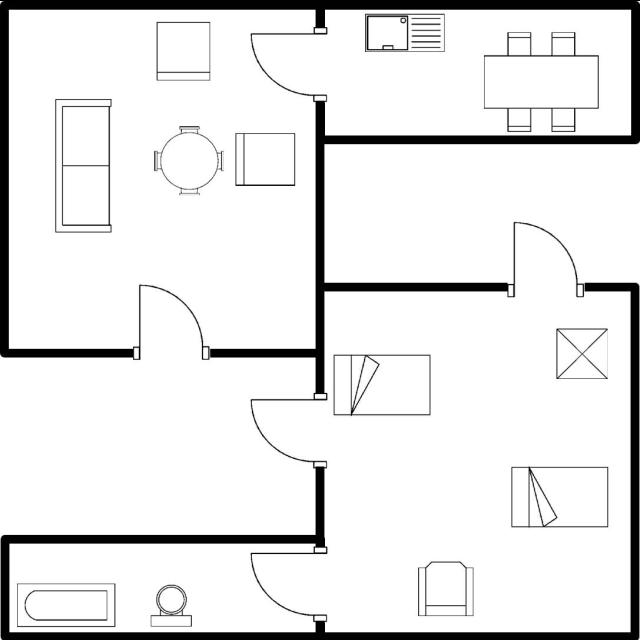bed: (329, 349, 437, 421), (505, 462, 614, 532)
coffee_table: (549, 322, 615, 383)
dining_table: (478, 26, 604, 136)
large_sink: (412, 556, 478, 622), (143, 580, 200, 628)
large_sofa: (49, 94, 118, 238)
round_table: (149, 120, 228, 202)
sink: (361, 9, 449, 55)
small_sofa: (231, 126, 301, 191), (153, 19, 215, 87)
tub: (13, 576, 122, 630)
